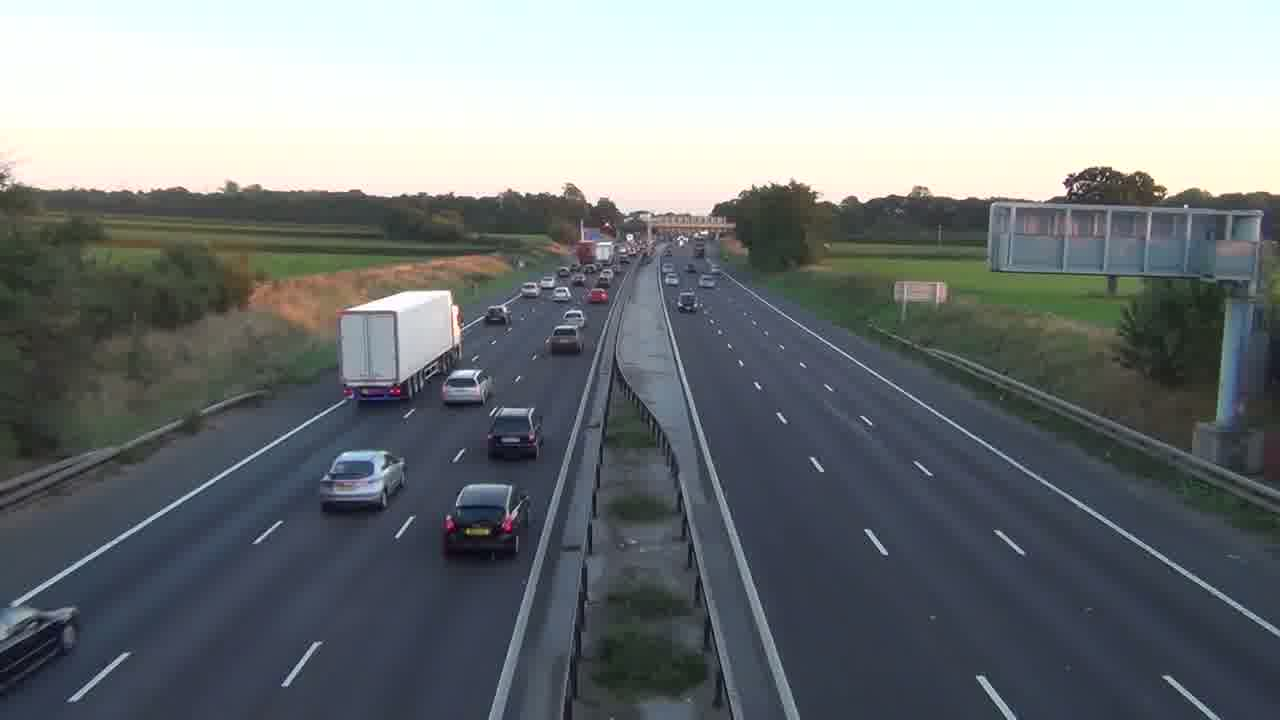car: (0, 604, 80, 692), (441, 482, 532, 559), (319, 448, 406, 512), (486, 406, 545, 461), (441, 369, 487, 407), (546, 328, 583, 355), (559, 308, 585, 330)
truck: (337, 289, 461, 403)
